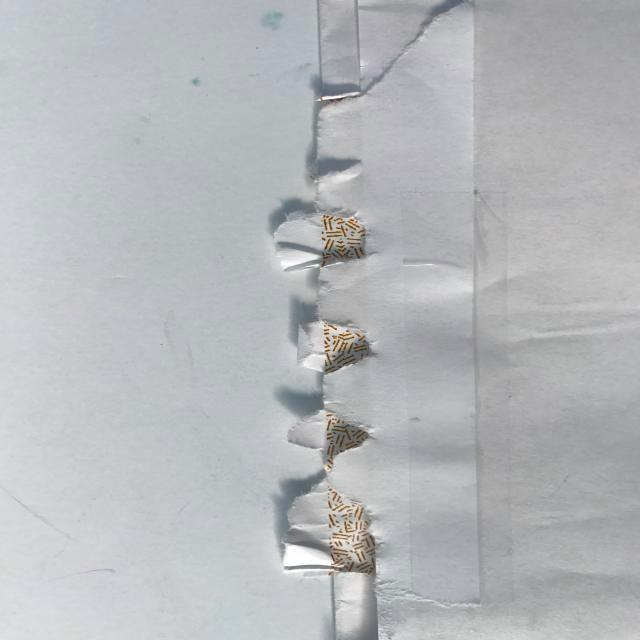paper: (284, 0, 640, 640)
